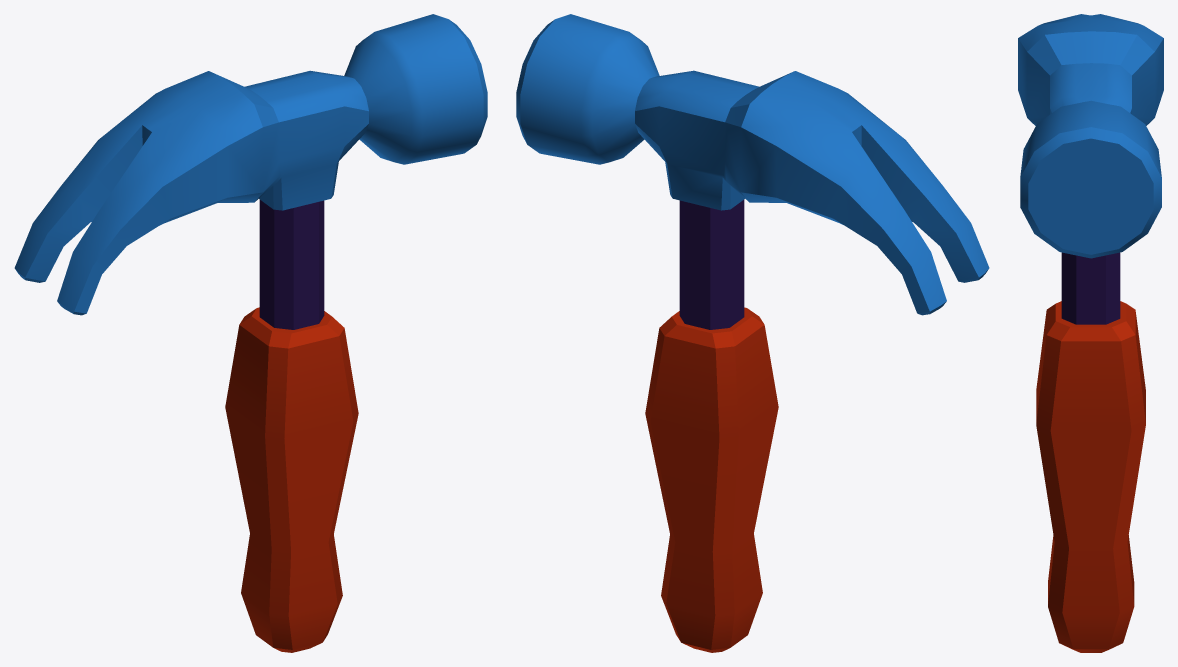
The model's file is Hammer.FBX.
3 renders of one model, left to right at view 1: azimuth 30°, elevation 25°; view 2: azimuth 150°, elevation 25°; view 3: azimuth 270°, elevation 25°, orthographic.
Visible parts, largest first — view 1: Hammer; view 2: Hammer; view 3: Hammer.
Boxes of the visible parts, bbox=[...] form: Hammer: bbox=[14, 14, 487, 652]; Hammer: bbox=[516, 14, 989, 652]; Hammer: bbox=[1018, 14, 1163, 652].
Size of the model in its own units: 789 by 236 by 1064.
